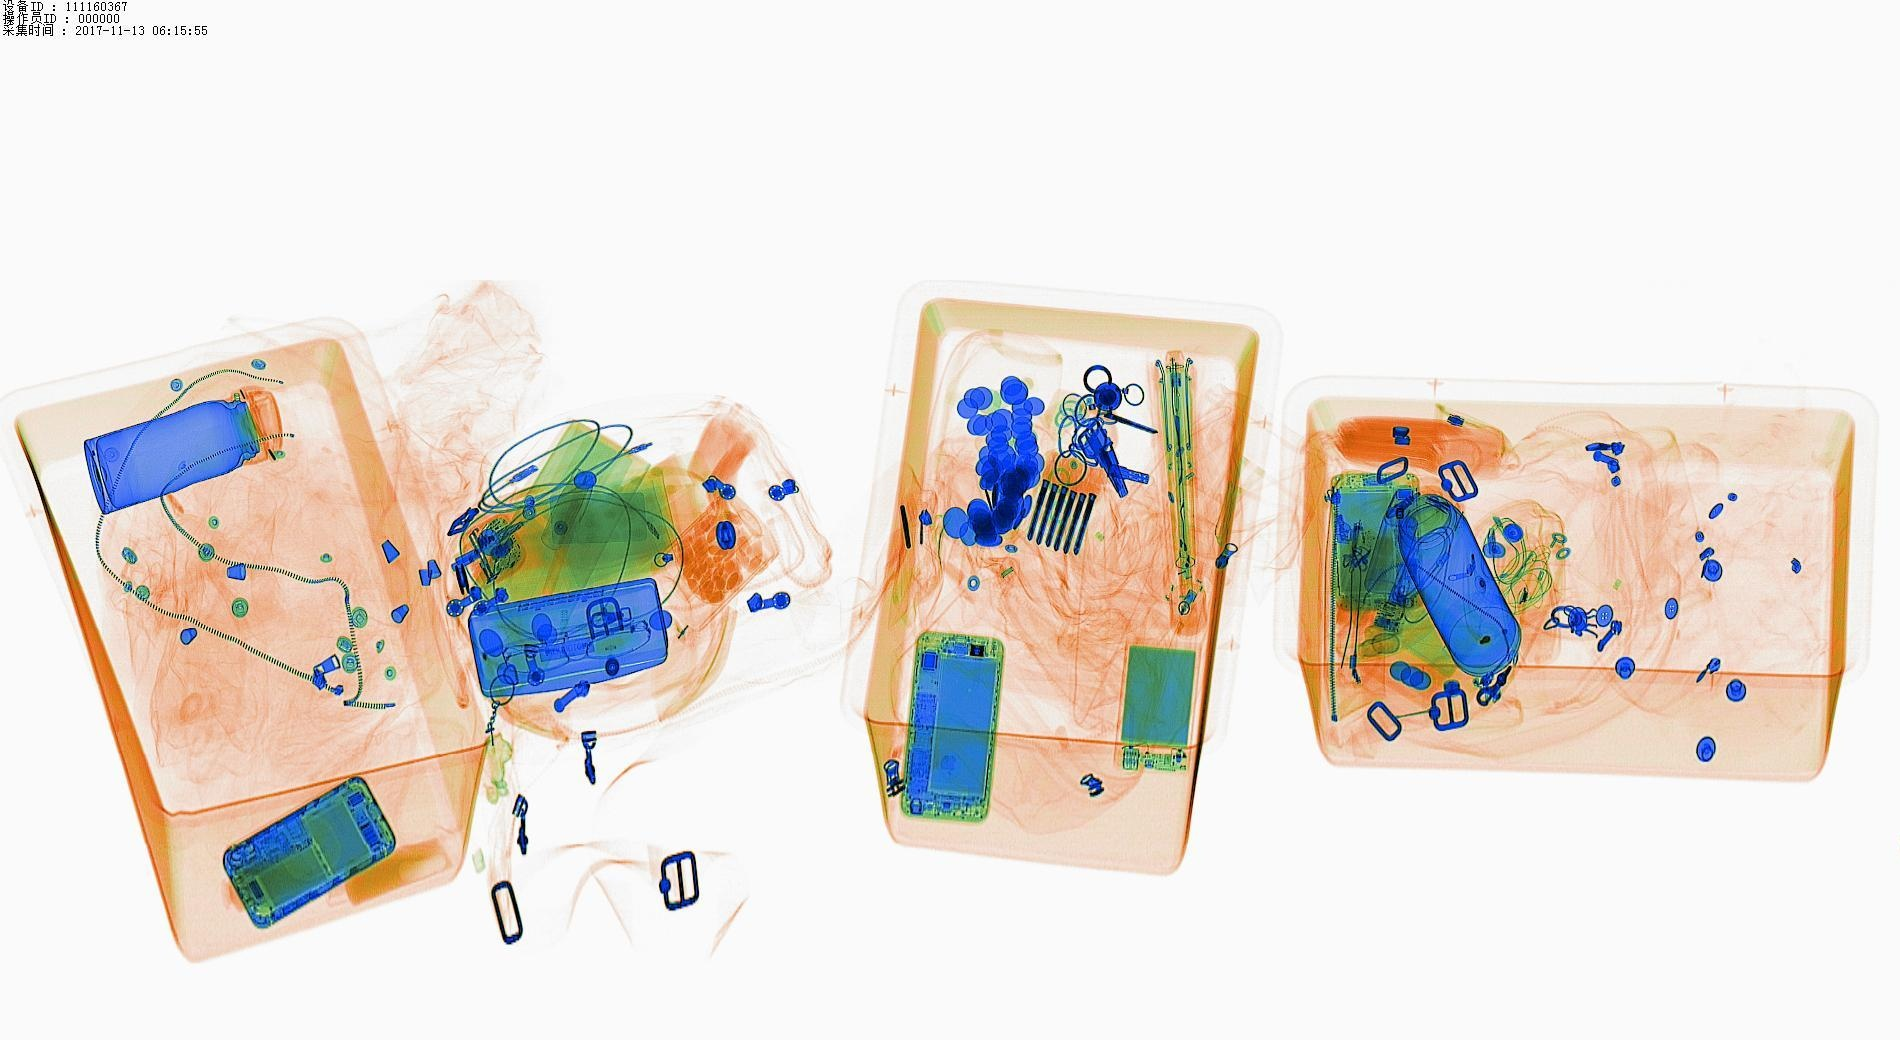coreless: (1116, 640, 1200, 785)
